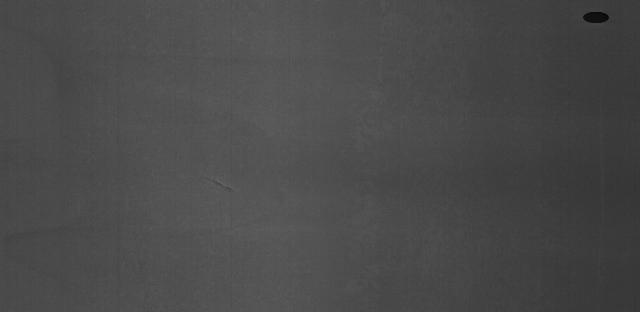punching_hole: (581, 8, 613, 27)
